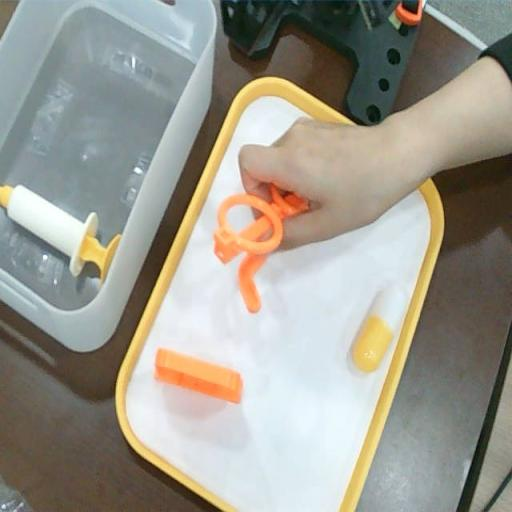hospital: (238, 118, 424, 252)
